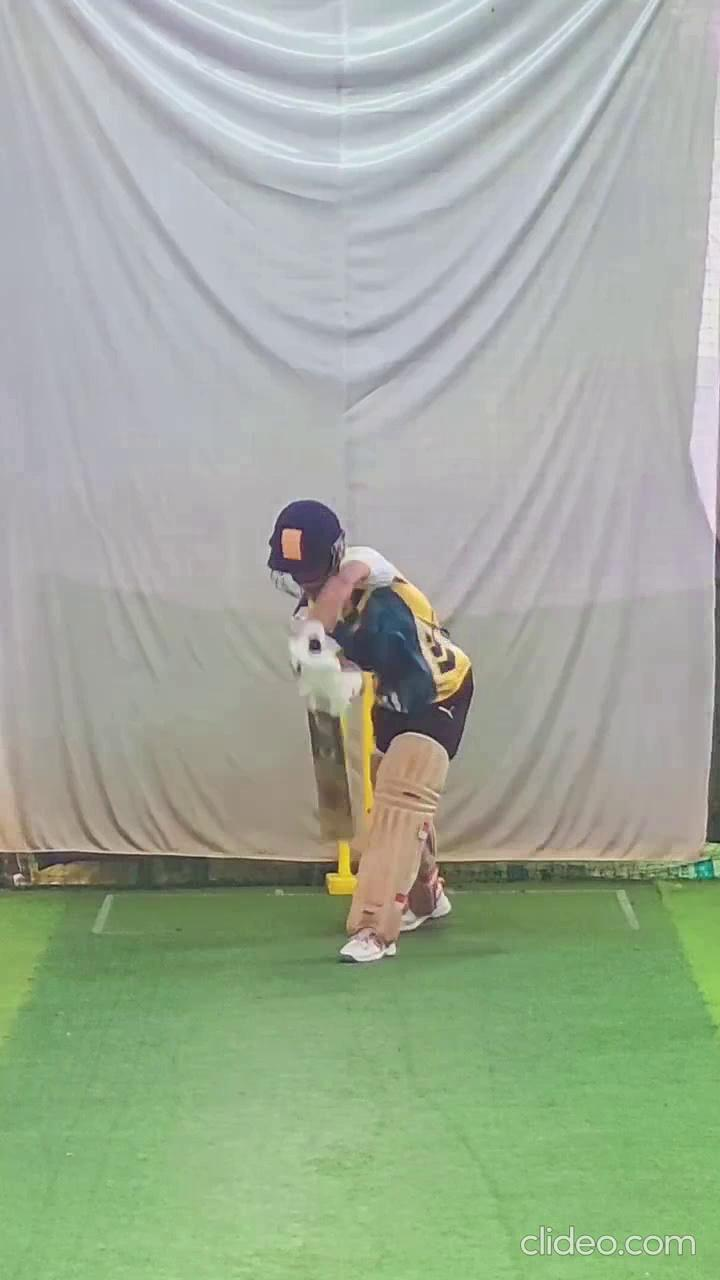bat: (304, 700, 357, 848)
